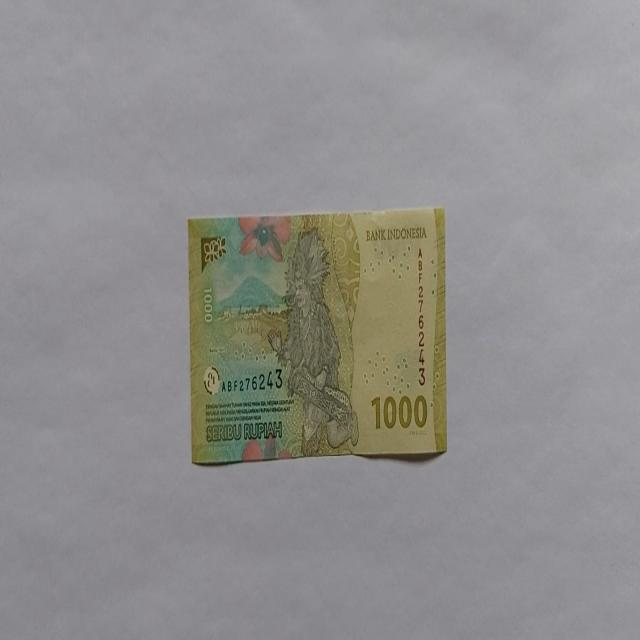seribu rupiah kertas: (186, 206, 448, 465)
